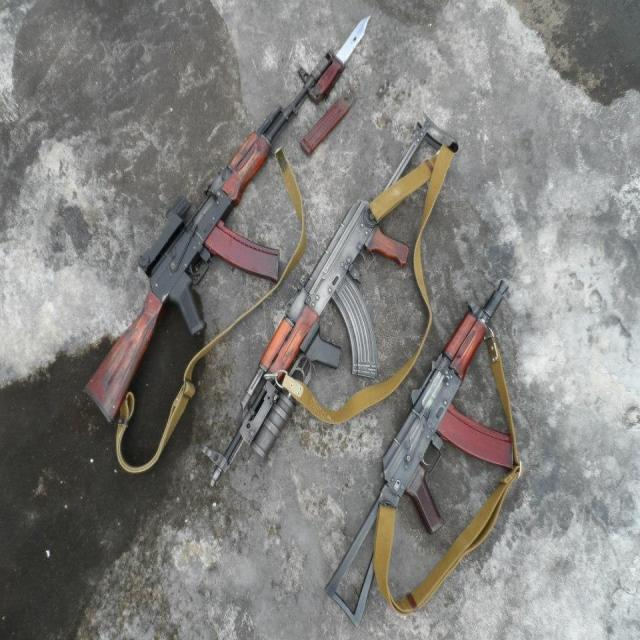firearm: (201, 118, 456, 490), (82, 55, 331, 422), (326, 279, 511, 628)
knife: (296, 1, 378, 99)
